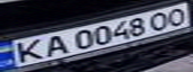0: (69, 27, 97, 51), (90, 22, 115, 46)
4: (112, 18, 136, 42)
8: (127, 14, 151, 38)
A: (36, 33, 72, 58)
K: (6, 37, 51, 64)
O: (160, 6, 193, 28), (145, 10, 175, 33)
